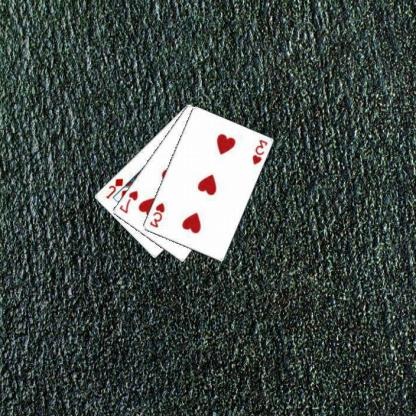3H: (251, 137, 270, 166), (149, 200, 167, 229)
7H: (118, 188, 141, 214)
JD: (104, 176, 126, 200)
